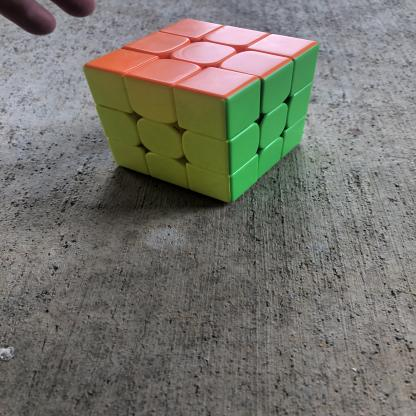SolvedCube: (74, 11, 328, 216)
